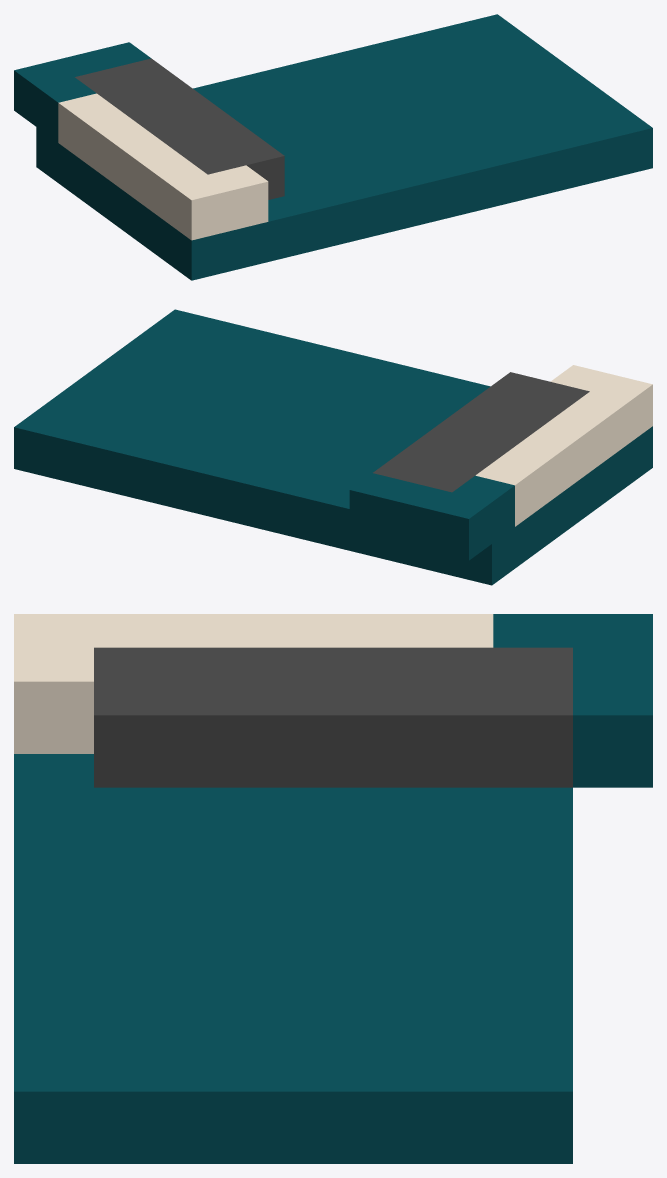
Rendered from BookBlue1.obj.
The picture shows the model from 3 angles, top to bottom: view 1: azimuth 30°, elevation 25°; view 2: azimuth 150°, elevation 25°; view 3: azimuth 270°, elevation 25°; orthographic projection. The views are drawn at different scales.
Visible parts, largest first — view 1: BookBlue1; view 2: BookBlue1; view 3: BookBlue1.
Part boxes in pixels (bbox=[...]): BookBlue1: bbox=[14, 14, 652, 280]; BookBlue1: bbox=[14, 309, 652, 585]; BookBlue1: bbox=[14, 614, 652, 1163].
Bounding box in the file's own units: 12 × 2 × 8.
Materials: 1 (1 with a texture image).
